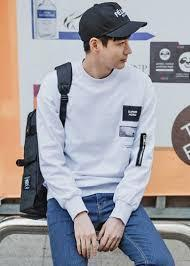sweater: (34, 59, 161, 220)
